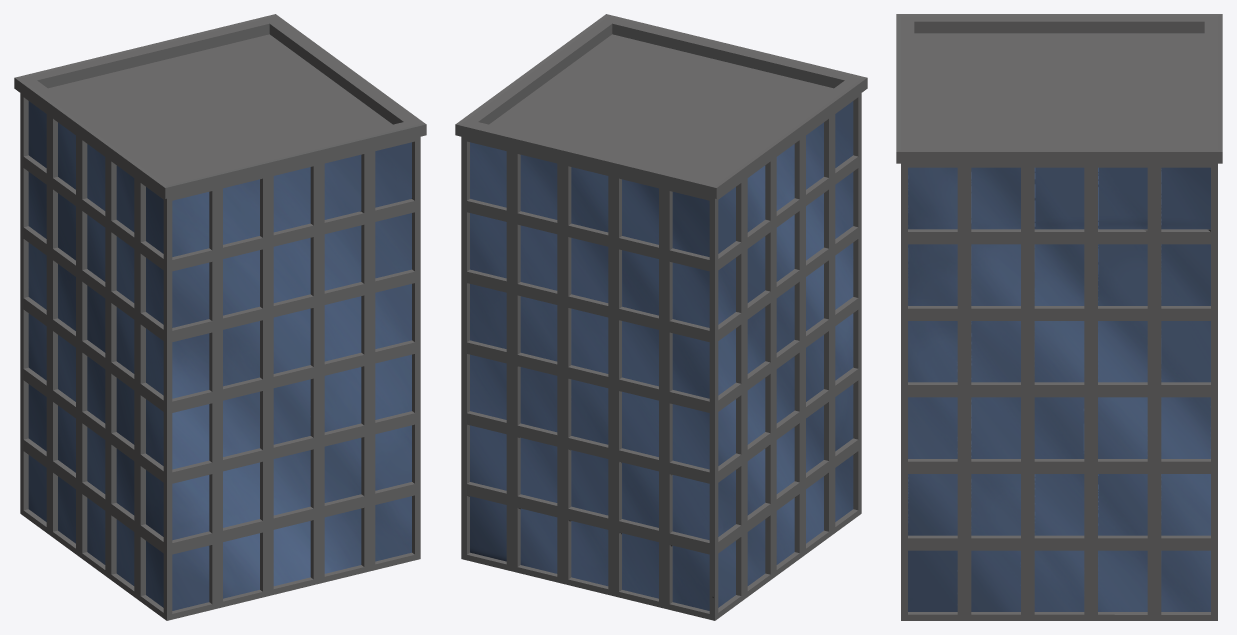
Rendered from Building01.fbx.
The picture shows the model from 3 angles, left to right: view 1: azimuth 30°, elevation 25°; view 2: azimuth 150°, elevation 25°; view 3: azimuth 270°, elevation 25°; orthographic projection. The views are drawn at different scales.
Parts seen in each view (by area): view 1: Building01; view 2: Building01; view 3: Building01.
Part boxes in pixels (box(x1,y1,x2,y2)): Building01: box(14, 14, 426, 620); Building01: box(455, 14, 867, 620); Building01: box(896, 14, 1222, 620).
Bounding box in the file's own units: 1545 × 2461 × 1545.
